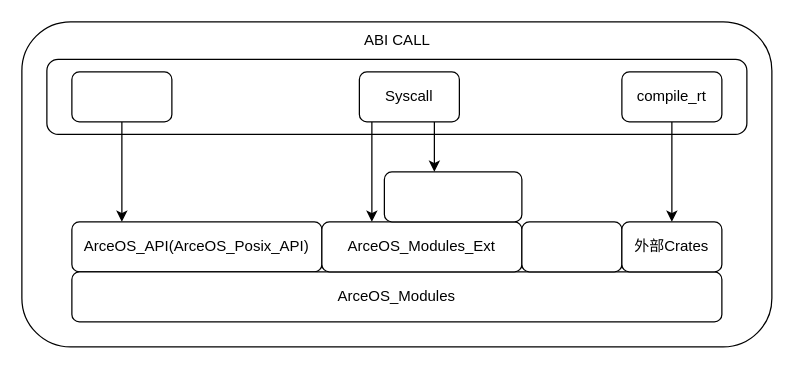
Image size: 794x369. Some labels were removed from this diagram. The shapes that lost their labels are listed below. From the top down, each one's centre as x and y in pixels, then its label:
(121,96): alloc, thread
(452,196): Linux_Ext
(571,246): Loader
